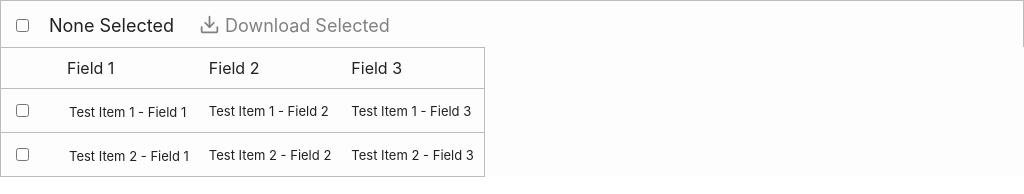
Test case: DownloadList › updates the number of selected files when the user clicks Select All
The width and height of the screenshot is (1024, 194).
Click the checkbox with class "select-all-checkbox" at (22, 26), box x1=16 y1=19 x2=29 y2=32
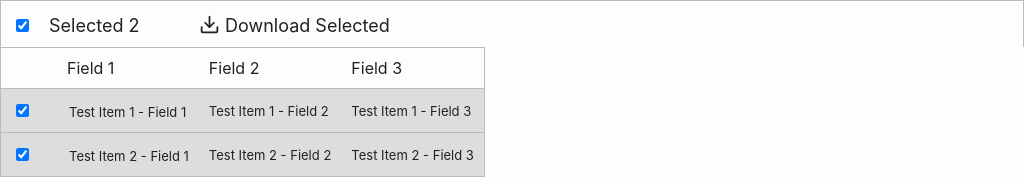
Expected: the text "Selected 2" is shown, x1=49 y1=15 x2=140 y2=36
Click the checkbox with class "select-all-checkbox" at (22, 26), box x1=16 y1=19 x2=29 y2=32
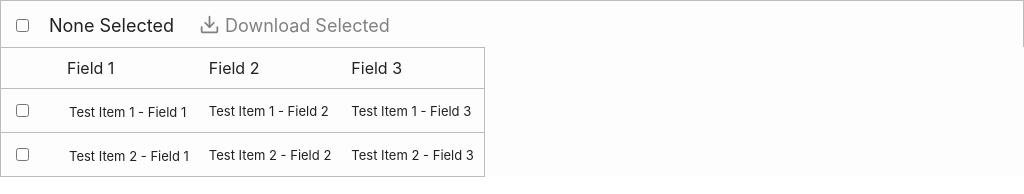
Expected: the text "None Selected" is shown, x1=49 y1=15 x2=174 y2=36
